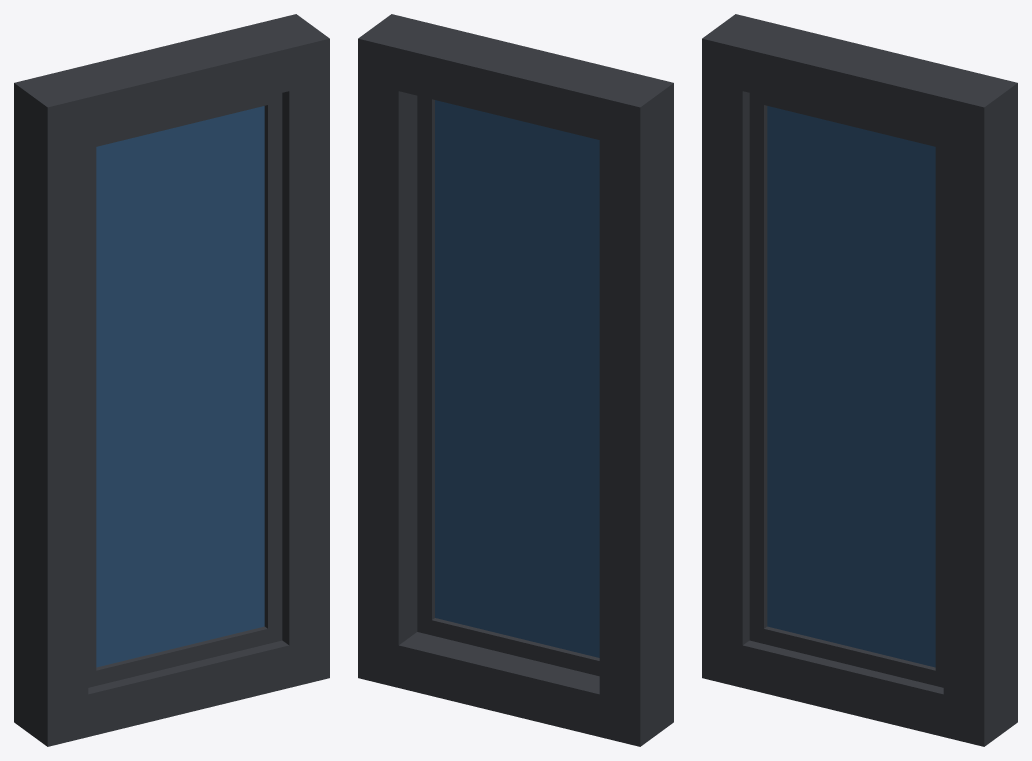
File: SM_Opening_Window03609_Black_01.gltf
The picture shows the model from 3 angles, left to right: view 1: azimuth 30°, elevation 25°; view 2: azimuth 150°, elevation 25°; view 3: azimuth 330°, elevation 25°; orthographic projection.
Parts seen in each view (by area): view 1: SM_Opening_Window03609_Black_01; view 2: SM_Opening_Window03609_Black_01; view 3: SM_Opening_Window03609_Black_01.
Part boxes in pixels (box(x1,y1,x2,y2)): SM_Opening_Window03609_Black_01: box(14, 14, 329, 746); SM_Opening_Window03609_Black_01: box(358, 14, 673, 746); SM_Opening_Window03609_Black_01: box(702, 14, 1017, 746).
Bounding box in the file's own units: 0.485 × 1.05 × 0.1.
1 material, 1 textured.
